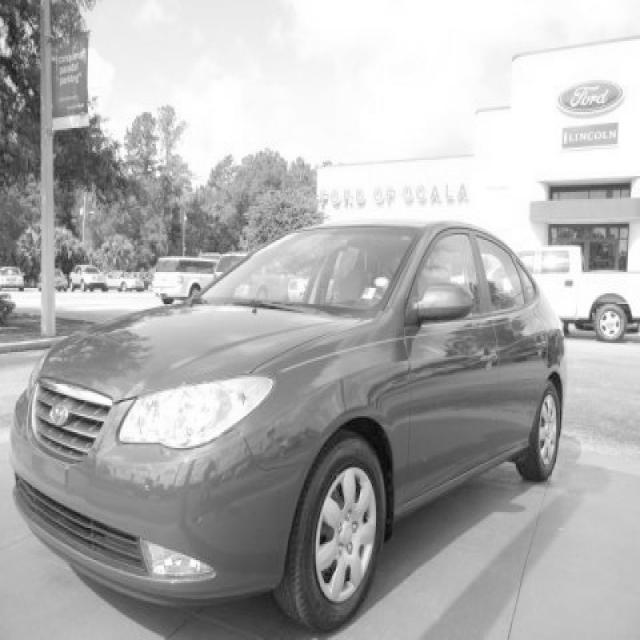car: (8, 217, 567, 635)
